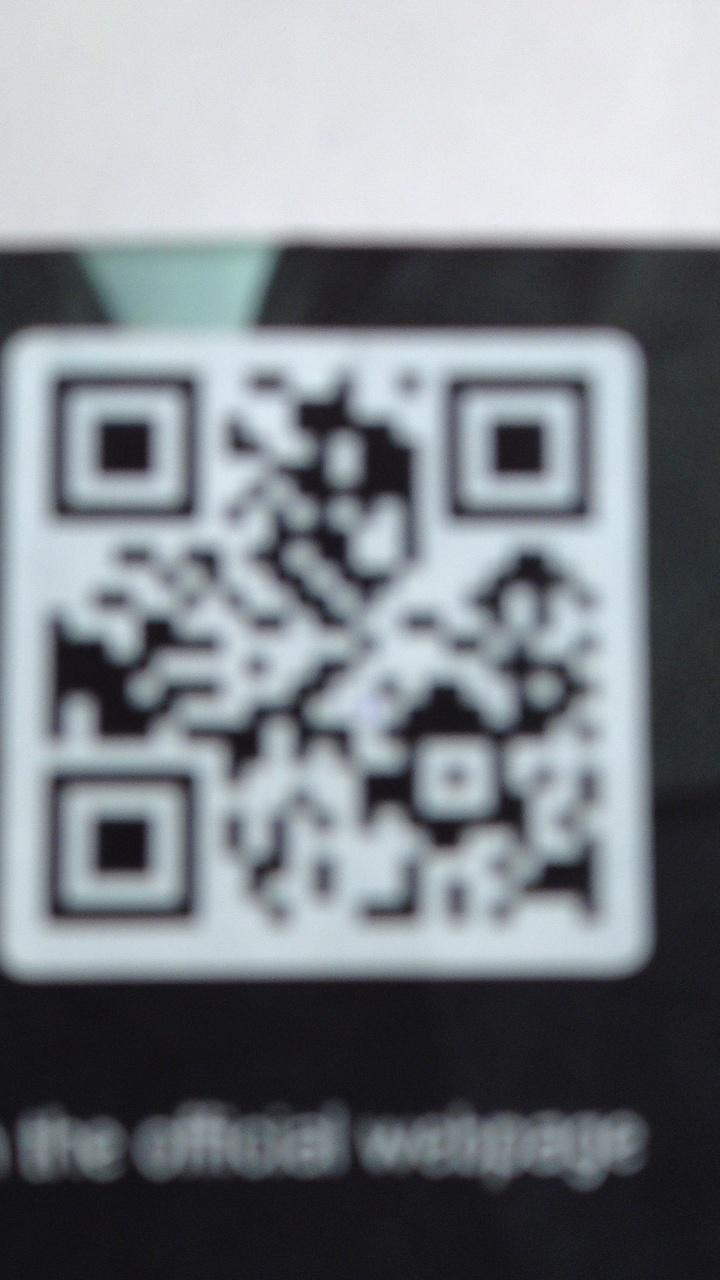Finder pattern: (36, 758, 209, 937), (431, 362, 602, 531), (39, 362, 207, 529)
